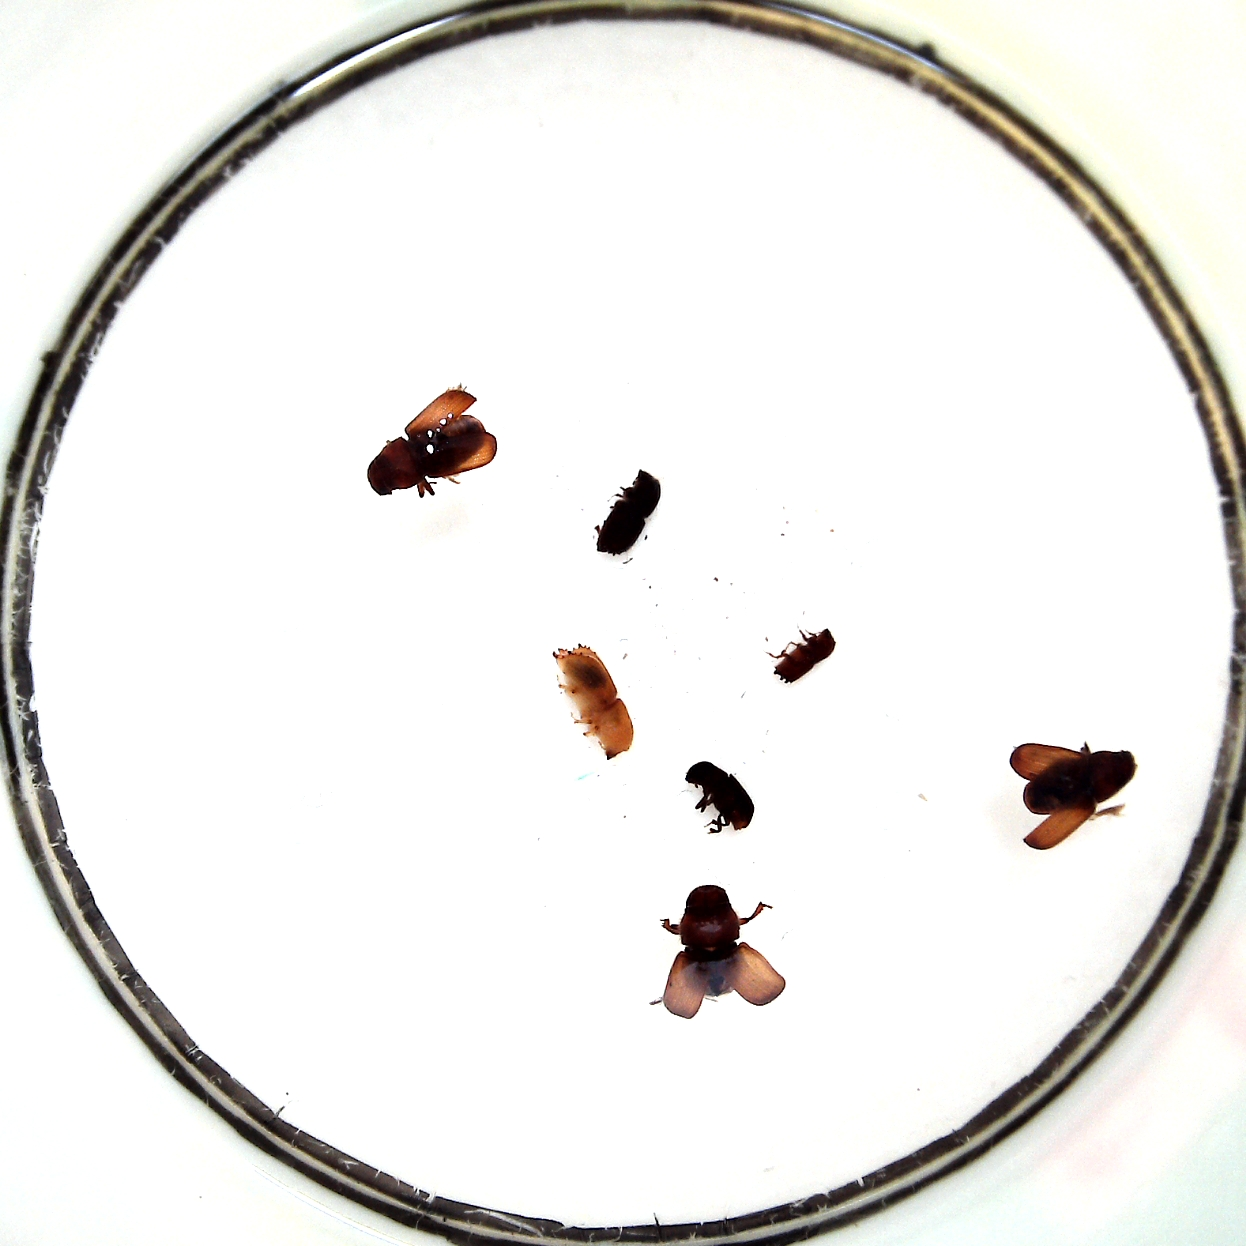Boerner: (555, 644, 640, 759)
Leconte: (658, 882, 788, 1020), (365, 379, 499, 500), (1009, 739, 1142, 853)
Linnaeus: (594, 469, 662, 556)
acuminatus: (767, 626, 835, 683)
armandi: (683, 756, 753, 835)
